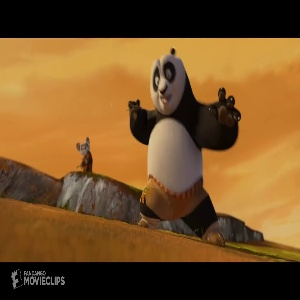po: (125, 45, 244, 250)
shifu: (73, 137, 96, 170)
